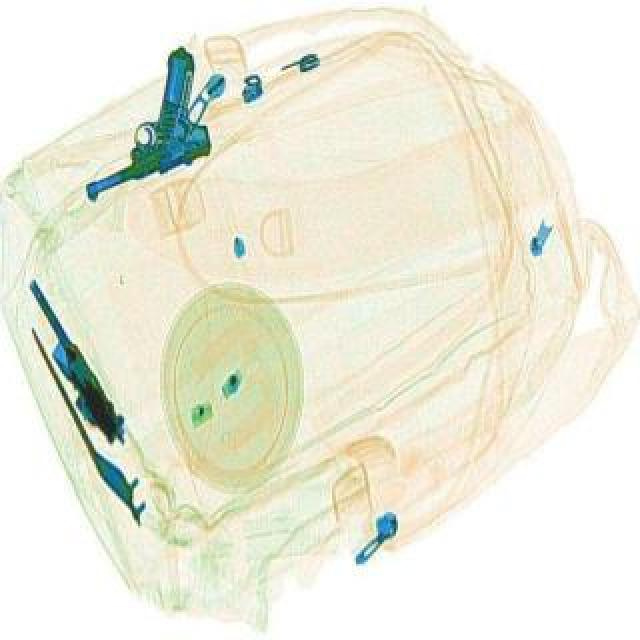gun: (44, 50, 236, 206), (8, 280, 138, 458)
